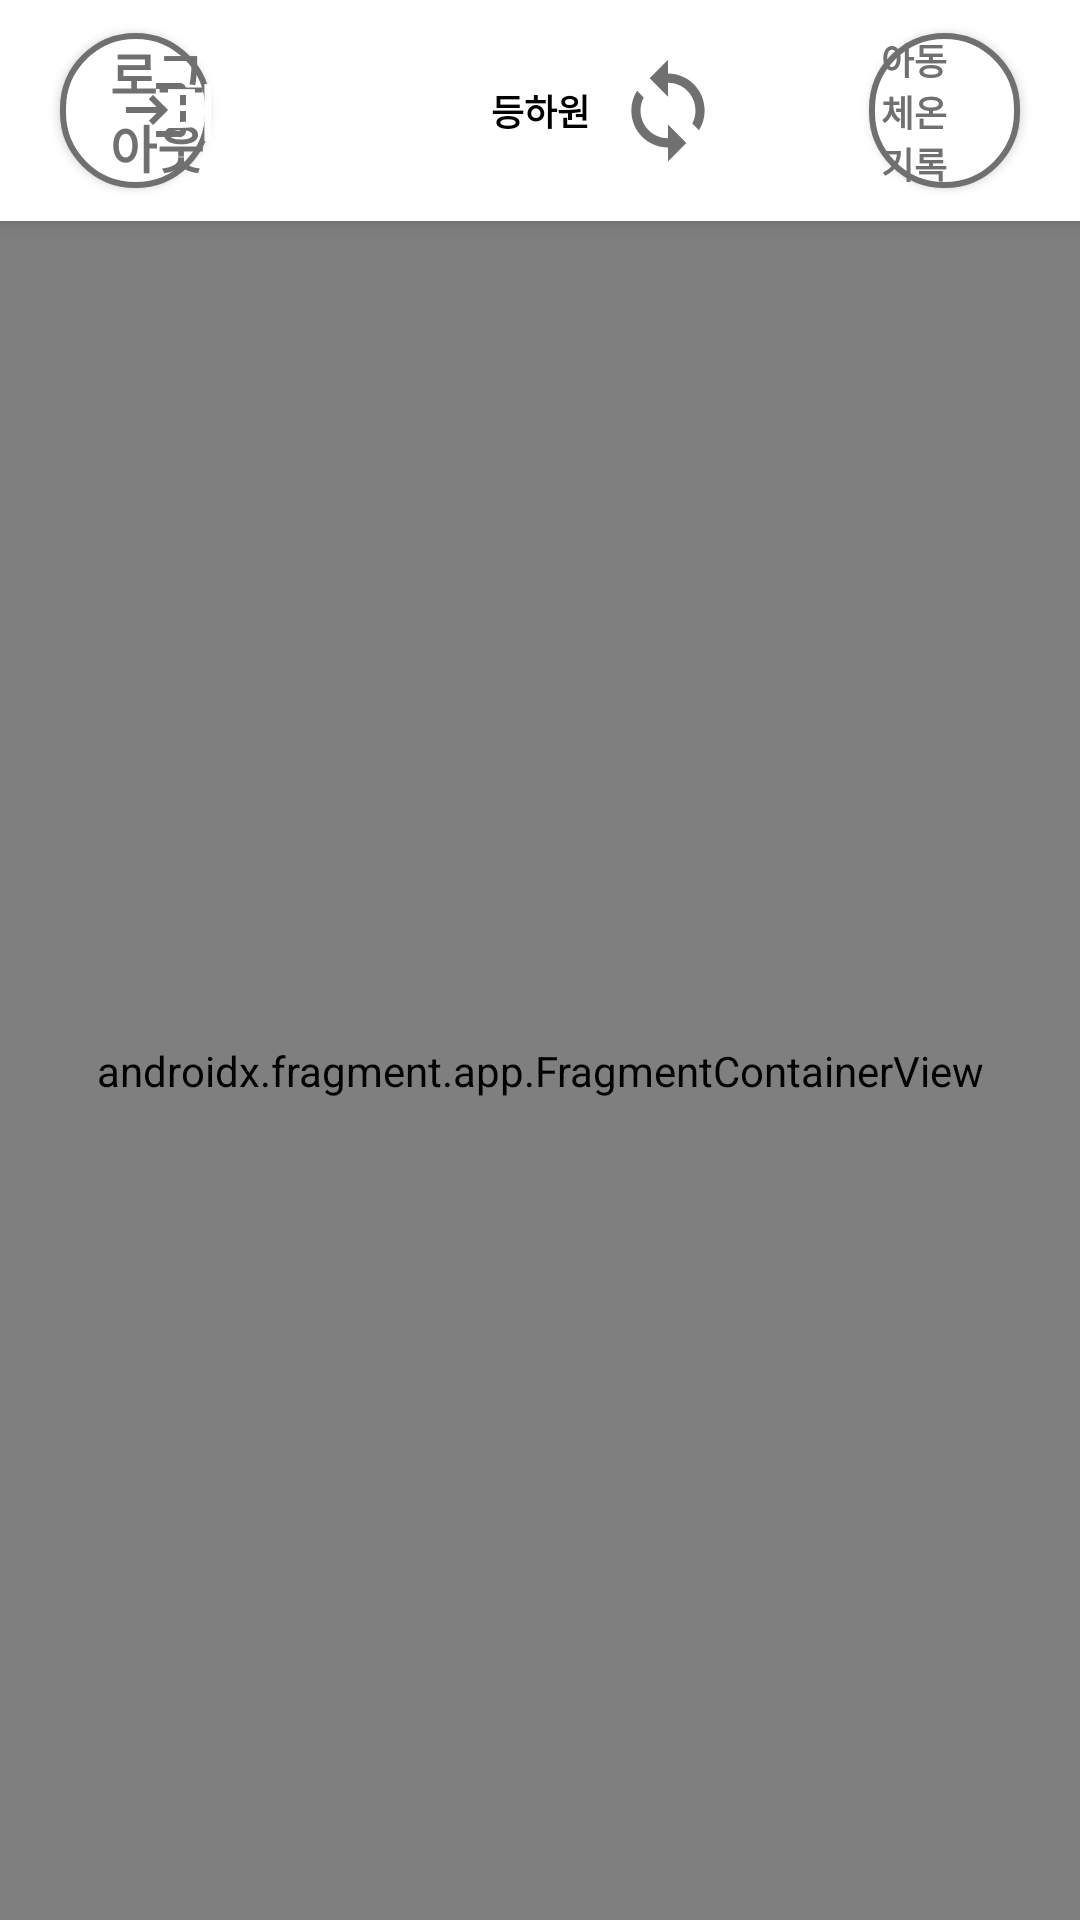

Icon bounding boxes for this 1080 x 1920 phone screenshot, format (x1, y1, x2, y2):
sync: (631, 60, 705, 161)
